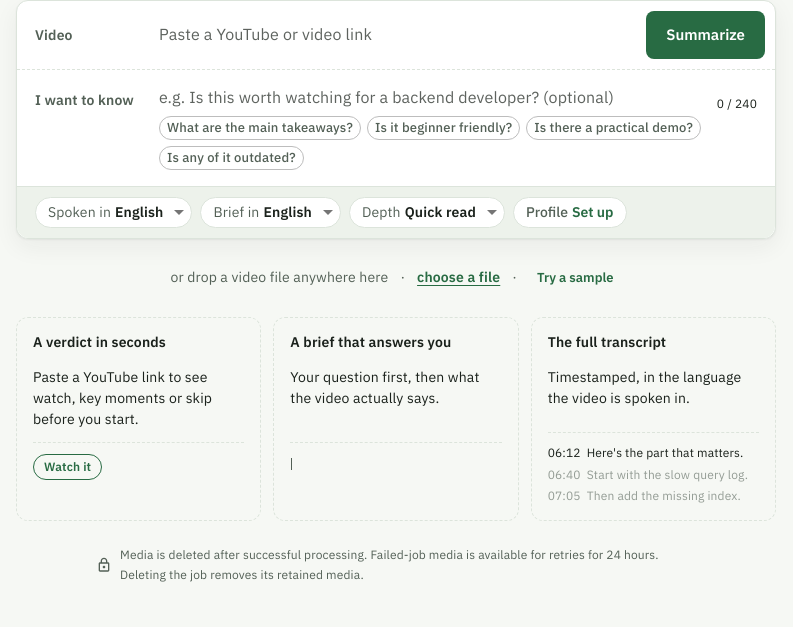
Test: Summary workflow › starts with the link field and validates a missing link
The image size is (793, 627).
Expected: the field labelled "Video" is shown, [159,19,634,51]
Expected: the list named "What you get" is shown, [16,317,776,521]
Click the button "Summarize".
click(706, 35)  # box [646,11,765,59]
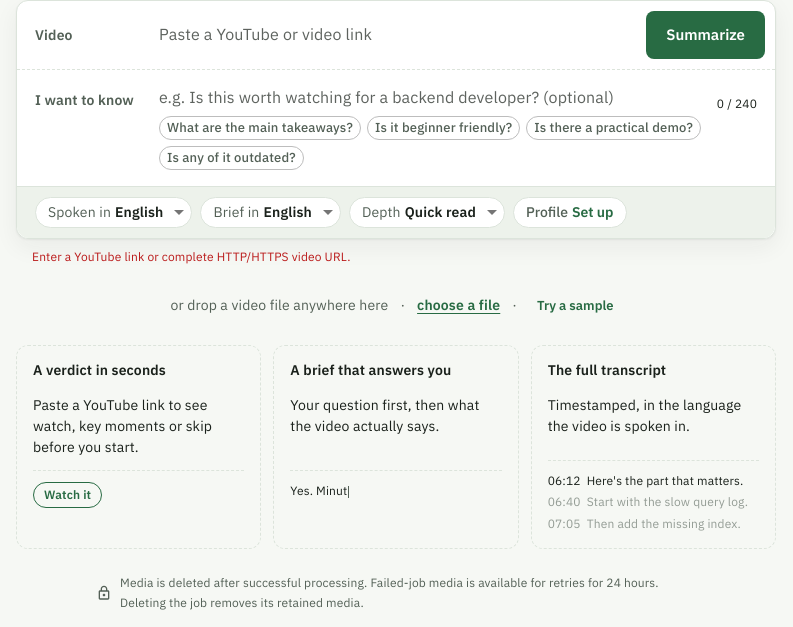
Result: the text "Enter a YouTube link or complete HTTP/HTTPS video URL." is shown at [32,249,351,264]
